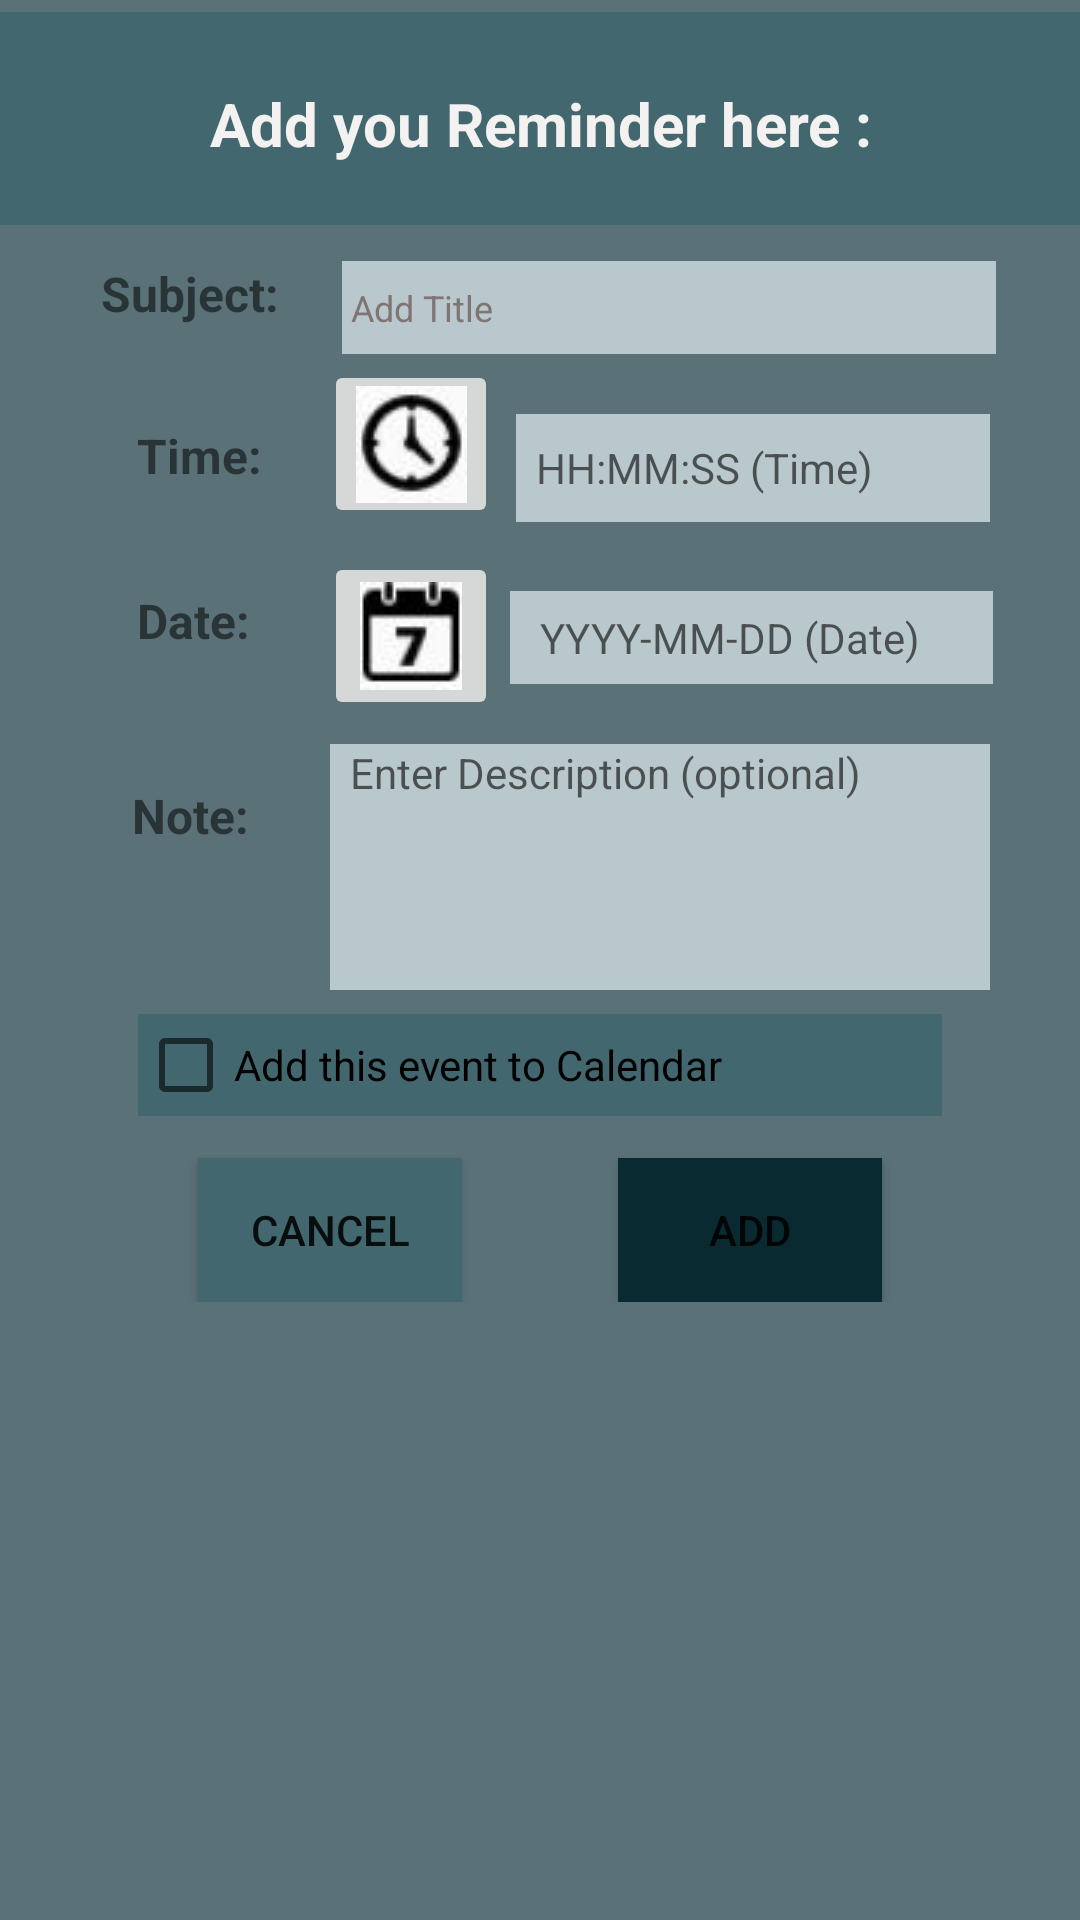

Where to tap for icons on this 1080x1920 app screen, as [x,y]:
cal: [411,636]
clock: [411,444]
